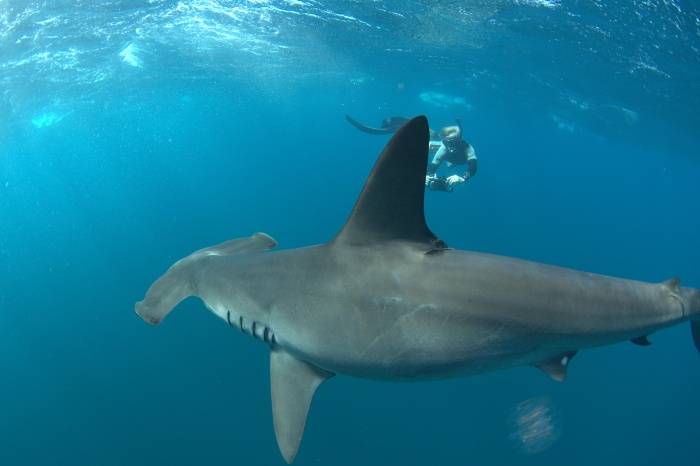Hammer: (127, 109, 693, 466)
